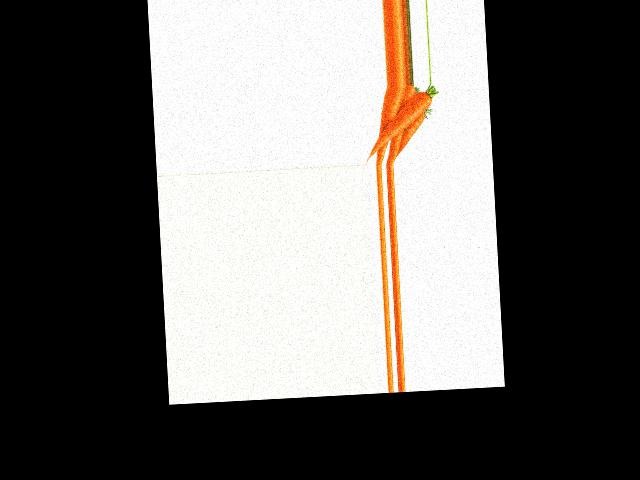carrot: (381, 85, 408, 146)
